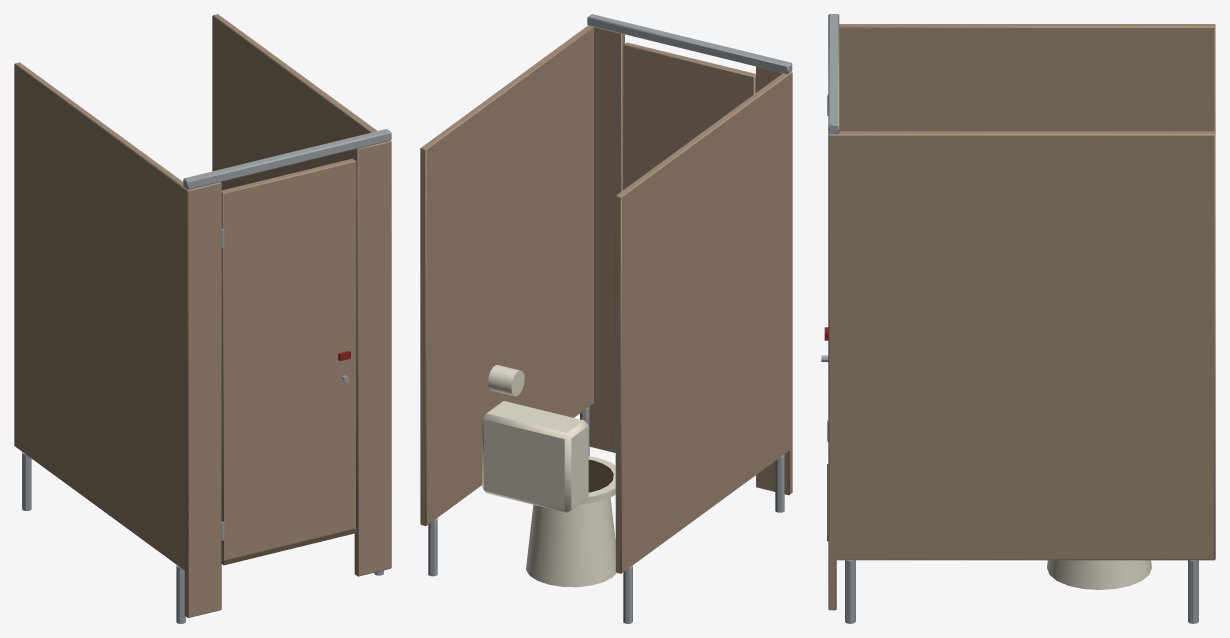
Rendered from toilet_stall.glb.
3 renders of one model, left to right at view 1: azimuth 30°, elevation 25°; view 2: azimuth 150°, elevation 25°; view 3: azimuth 270°, elevation 25°, orthographic. The views are drawn at different scales.
Visible parts, largest first — view 1: StallBody, Door; view 2: StallBody, Door; view 3: StallBody.
Boxes of the visible parts, <box> form: StallBody: <box>14,14,391,623</box>; Door: <box>221,158,357,565</box>; StallBody: <box>420,14,792,623</box>; Door: <box>623,42,755,189</box>; StallBody: <box>828,14,1215,623</box>.
Size of the model in its own units: 0.96 by 1.99 by 1.42.
